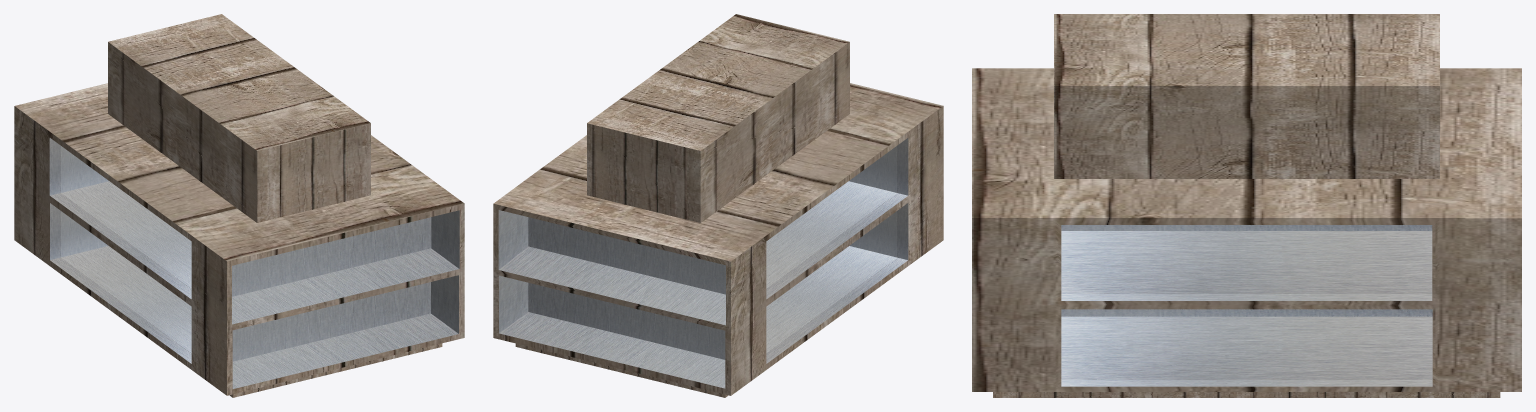
The model's file is estante2.obj.
3 views of the same model, side by side, from view 1: azimuth 30°, elevation 25°; view 2: azimuth 150°, elevation 25°; view 3: azimuth 270°, elevation 25° (orthographic). The views are drawn at different scales.
Parts seen in each view (by area): view 1: Cubo.001, Cubo.004, Cubo.005, Cubo.002, Cubo.003, Cubo.010; view 2: Cubo.001, Cubo.008, Cubo.009, Cubo.002, Cubo.003, Cubo.010; view 3: Cubo.001, Cubo.006, Cubo.007, Cubo.010.
Boxes of the visible parts, bbox=[...] form: Cubo.001: bbox=[14, 14, 464, 395]; Cubo.004: bbox=[232, 210, 459, 324]; Cubo.005: bbox=[232, 275, 458, 388]; Cubo.002: bbox=[49, 138, 191, 298]; Cubo.003: bbox=[50, 203, 191, 363]; Cubo.010: bbox=[230, 343, 442, 397]; Cubo.001: bbox=[493, 14, 943, 395]; Cubo.008: bbox=[498, 210, 725, 325]; Cubo.009: bbox=[499, 275, 725, 388]; Cubo.002: bbox=[766, 138, 908, 299]; Cubo.003: bbox=[766, 203, 908, 363]; Cubo.010: bbox=[515, 343, 728, 397]; Cubo.001: bbox=[972, 14, 1521, 391]; Cubo.006: bbox=[1061, 309, 1432, 386]; Cubo.007: bbox=[1061, 225, 1432, 300]; Cubo.010: bbox=[993, 392, 1500, 397].
Size of the model in its own units: 3.11 by 2.73 by 4.82.
2 materials, 2 textured.
